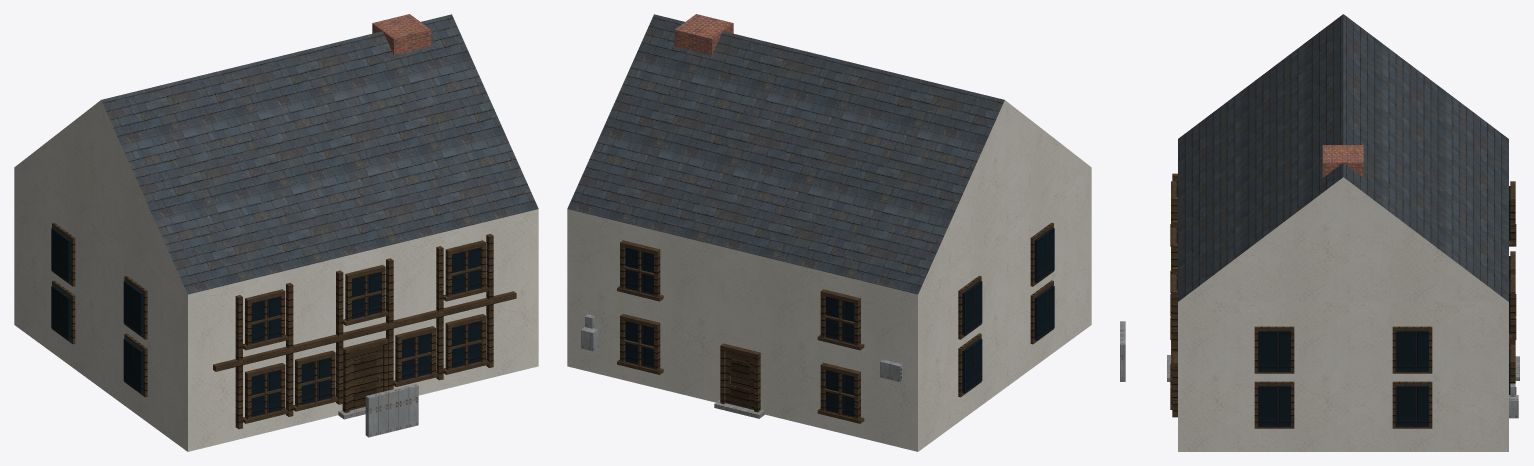
The model's file is tudor-house_lod0.gltf.
3 views of the same model, side by side, from view 1: azimuth 30°, elevation 25°; view 2: azimuth 150°, elevation 25°; view 3: azimuth 270°, elevation 25° (orthographic). The views are drawn at different scales.
Visible parts, largest first — view 1: tudor-house_roof, tudor-house_walls, tudor-house_fen_18-timber-siding_0_t, tudor-house_gable_ends, tudor-house_fen_07-glass-curtain-blue_4_t, tudor-house__gate, tudor-house__chimney, tudor-house_fen_18-timber-siding_1_t; view 2: tudor-house_roof, tudor-house_walls, tudor-house_gable_ends, tudor-house_fen_18-timber-siding_0_t, tudor-house_fen_07-glass-curtain-blue_4_t, tudor-house__chimney, tudor-house_fen_14-steel-panel_5, tudor-house_fen_18-timber-siding_1_t; view 3: tudor-house_roof, tudor-house_walls, tudor-house_gable_ends, tudor-house_fen_07-glass-curtain-blue_4_t, tudor-house_fen_18-timber-siding_0_t, tudor-house__chimney.
Boxes of the visible parts, x1,y1,x2,y2 form: tudor-house_roof: [101, 14, 538, 294]; tudor-house_walls: [14, 168, 538, 451]; tudor-house_fen_18-timber-siding_0_t: [52, 222, 516, 429]; tudor-house_gable_ends: [14, 100, 187, 293]; tudor-house_fen_07-glass-curtain-blue_4_t: [51, 227, 480, 417]; tudor-house__gate: [365, 384, 418, 437]; tudor-house__chimney: [372, 14, 431, 55]; tudor-house_fen_18-timber-siding_1_t: [354, 354, 376, 407]; tudor-house_roof: [567, 14, 1004, 294]; tudor-house_walls: [567, 168, 1091, 451]; tudor-house_gable_ends: [918, 100, 1091, 293]; tudor-house_fen_18-timber-siding_0_t: [617, 222, 1053, 423]; tudor-house_fen_07-glass-curtain-blue_4_t: [625, 227, 1054, 417]; tudor-house__chimney: [674, 14, 733, 55]; tudor-house_fen_14-steel-panel_5: [581, 314, 902, 381]; tudor-house_fen_18-timber-siding_1_t: [731, 359, 749, 407]; tudor-house_roof: [1178, 14, 1508, 301]; tudor-house_walls: [1178, 302, 1508, 451]; tudor-house_gable_ends: [1178, 177, 1508, 301]; tudor-house_fen_07-glass-curtain-blue_4_t: [1176, 186, 1510, 426]; tudor-house_fen_18-timber-siding_0_t: [1170, 173, 1516, 428]; tudor-house__chimney: [1322, 145, 1363, 177].
Bounding box in the file's own units: 14.4 × 11.02 × 14.5.
